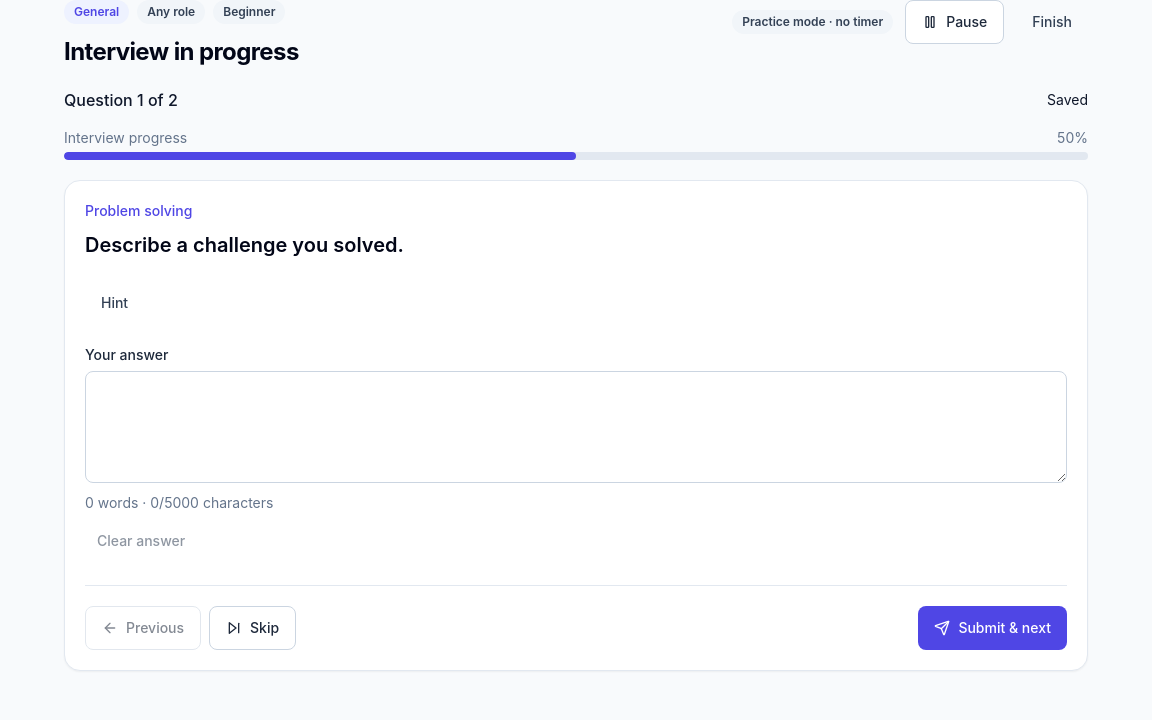
Test: InterviewPage › submits locally saved draft answers before completing
Type "A final saved response." into the text box labelled "Your answer". click: (576, 427)
box: x1=85 y1=371 x2=1067 y2=483
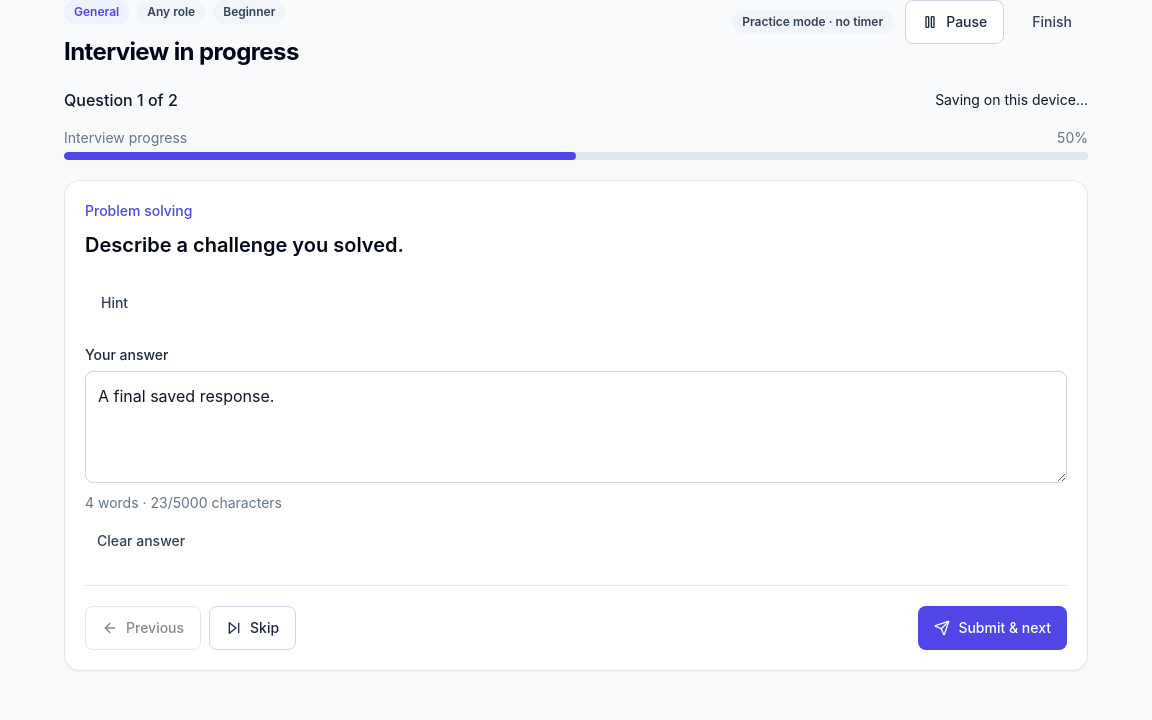
Click the button "Finish". click: (1052, 22)
box: x1=1016 y1=0 x2=1088 y2=44
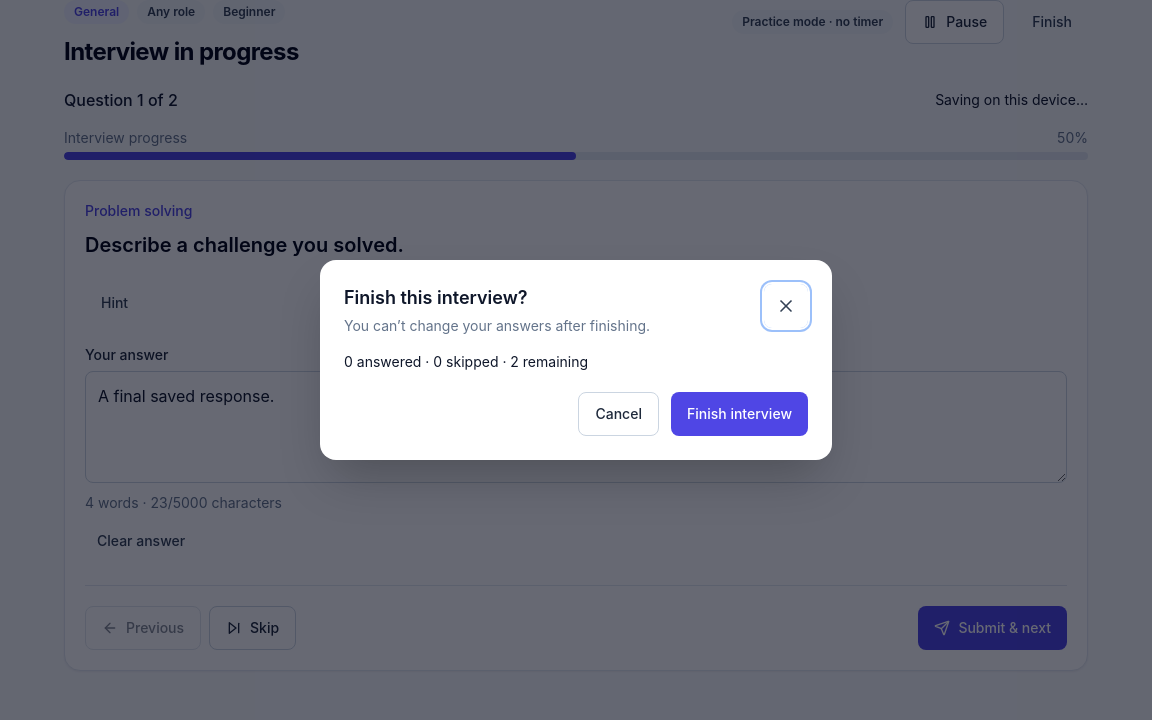
Expected: the dialog "Finish this interview?" shows "0 answered · 0 skipped · 2 remaining", x1=344 y1=353 x2=588 y2=370
Click the button "Finish interview". click: (740, 414)
box: x1=671 y1=392 x2=808 y2=436
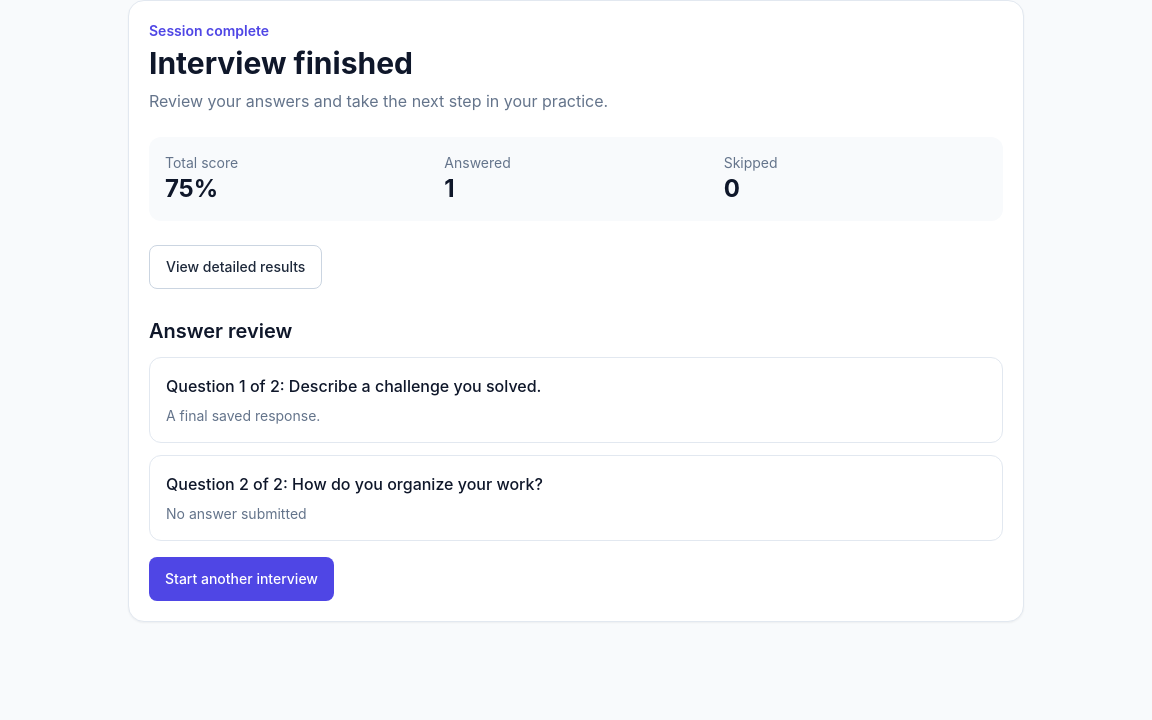
Expected: the heading "Interview finished" is shown, x1=149 y1=45 x2=413 y2=81
